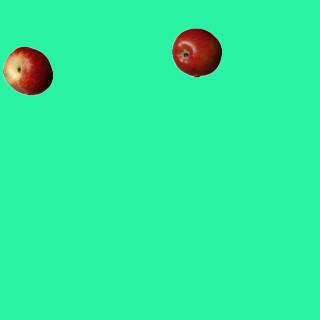Apple Braeburn: (171, 27, 221, 77)
Nectarine: (2, 45, 52, 95)
